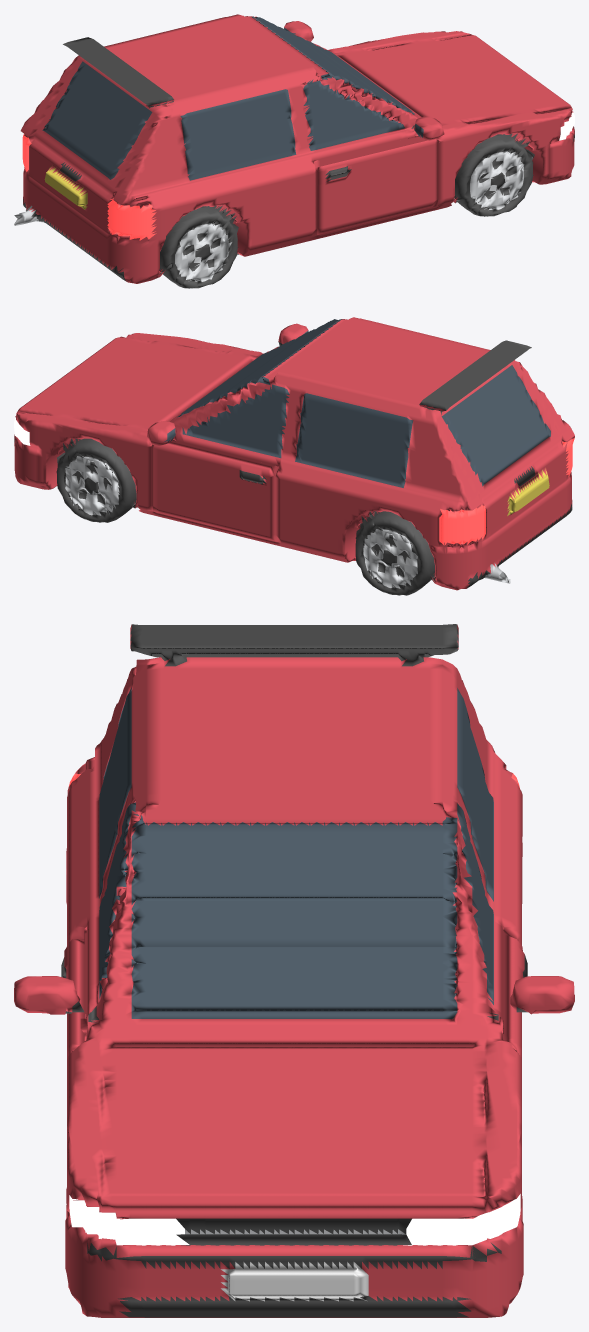
File: hatchback.glb
The picture shows the model from 3 angles, top to bottom: view 1: azimuth 30°, elevation 25°; view 2: azimuth 150°, elevation 25°; view 3: azimuth 270°, elevation 25°; orthographic projection. The views are drawn at different scales.
Visible parts, largest first — view 1: hatchback; view 2: hatchback; view 3: hatchback.
Part boxes in pixels (box(x1,y1,x2,y2)): hatchback: box(14, 14, 574, 288); hatchback: box(14, 317, 574, 595); hatchback: box(14, 624, 574, 1317).
Bounding box in the file's own units: 41.3 × 15.04 × 21.58.
